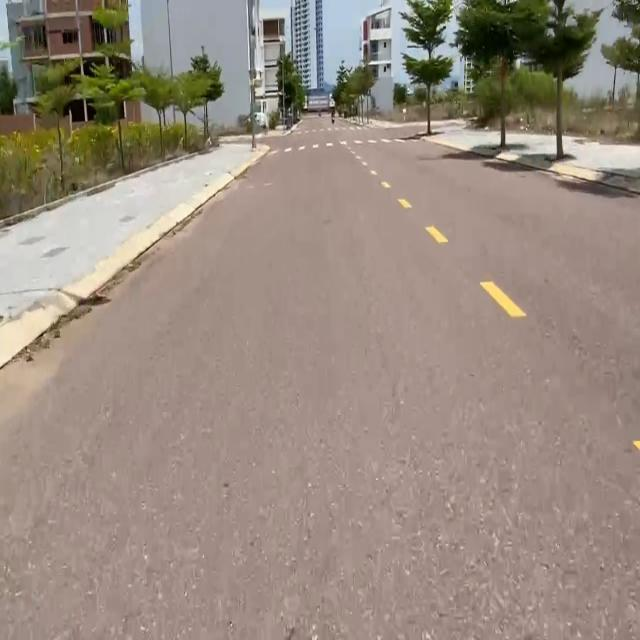walk-crossing: (262, 135, 418, 158)
